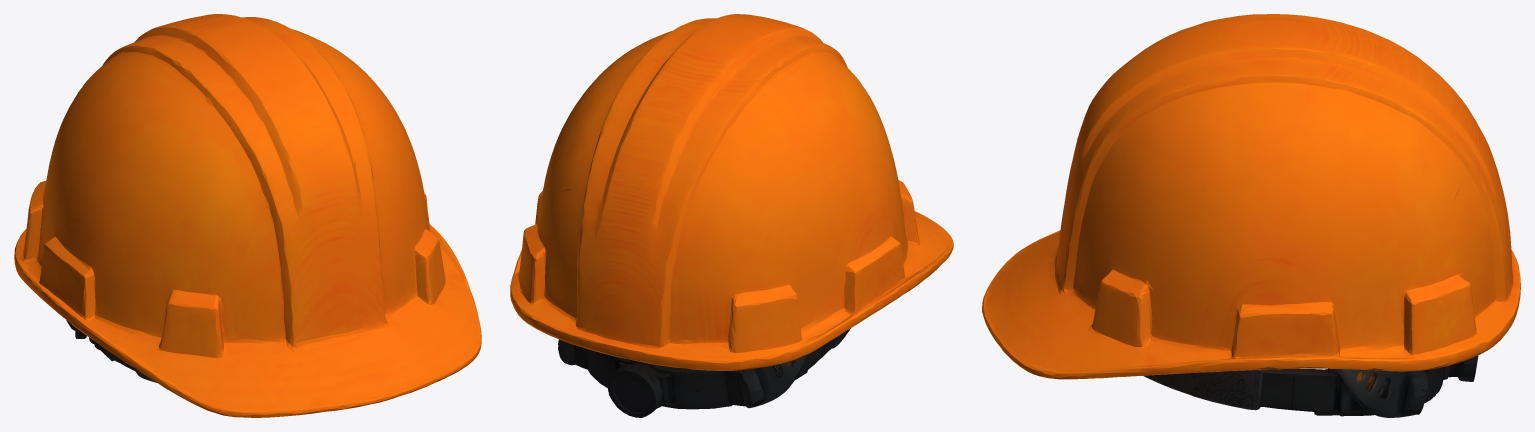
The model's file is Helm.fbx.
3 renders of one model, left to right at view 1: azimuth 30°, elevation 25°; view 2: azimuth 150°, elevation 25°; view 3: azimuth 270°, elevation 25°, orthographic. The views are drawn at different scales.
Parts seen in each view (by area): view 1: Mesh.001; view 2: Mesh.001; view 3: Mesh.001.
Part boxes in pixels (x1,y1,x2,y2): Mesh.001: [14, 14, 481, 417]; Mesh.001: [510, 14, 953, 417]; Mesh.001: [982, 14, 1520, 417].
Bounding box in the file's own units: 0.7014 × 0.6156 × 0.8579.
1 material, 1 textured.
